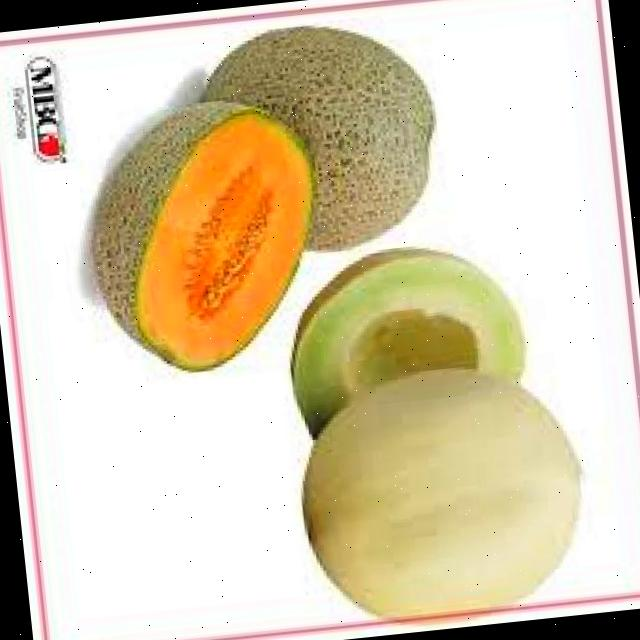Hami Melon: (72, 94, 332, 382), (193, 15, 449, 262)
